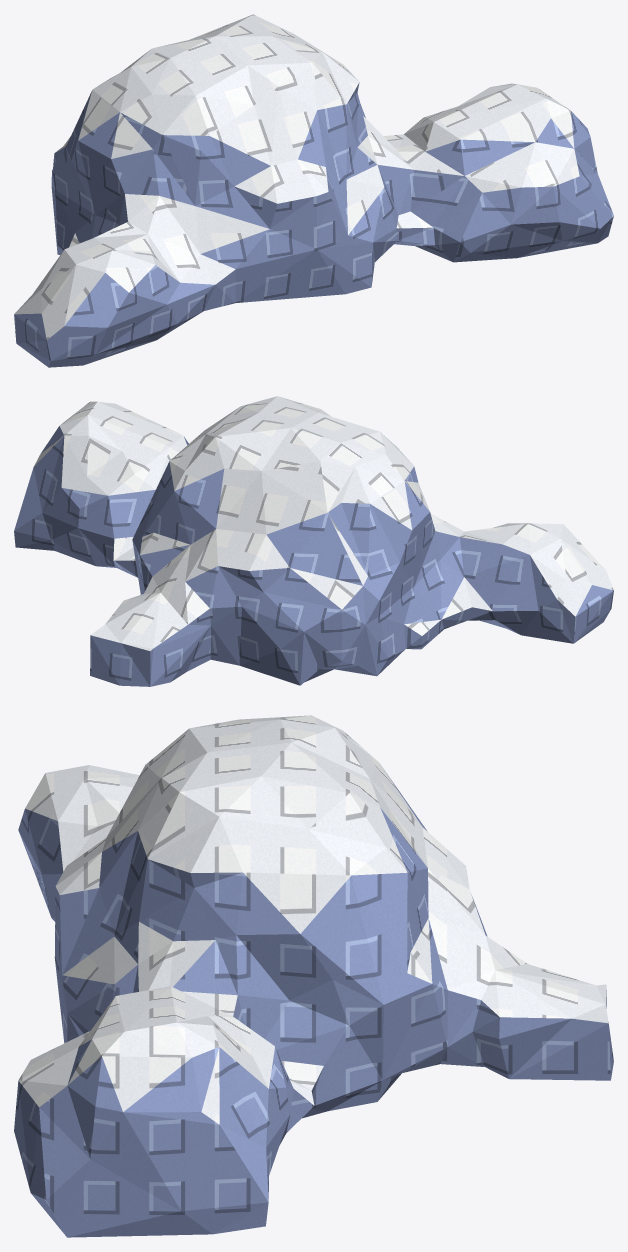
File: IceBeachBoulders.glb
The picture shows the model from 3 angles, top to bottom: view 1: azimuth 30°, elevation 25°; view 2: azimuth 150°, elevation 25°; view 3: azimuth 270°, elevation 25°; orthographic projection. The views are drawn at different scales.
Parts seen in each view (by area): view 1: IceBeachBoulders_Rock, IceBeachBoulders_Top; view 2: IceBeachBoulders_Rock, IceBeachBoulders_Top; view 3: IceBeachBoulders_Rock, IceBeachBoulders_Top.
Boxes of the visible parts, x1,y1,x2,y2 form: IceBeachBoulders_Rock: (14, 82, 613, 367); IceBeachBoulders_Top: (14, 14, 579, 339); IceBeachBoulders_Rock: (14, 426, 613, 686); IceBeachBoulders_Top: (34, 396, 613, 650); IceBeachBoulders_Rock: (14, 767, 613, 1237); IceBeachBoulders_Top: (18, 715, 608, 1124).
Bounding box in the file's own units: 13.56 × 5.07 × 9.16.
2 materials, 2 textured.
